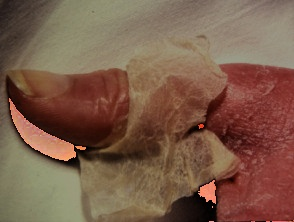SJS-TEN: (71, 34, 278, 222)
